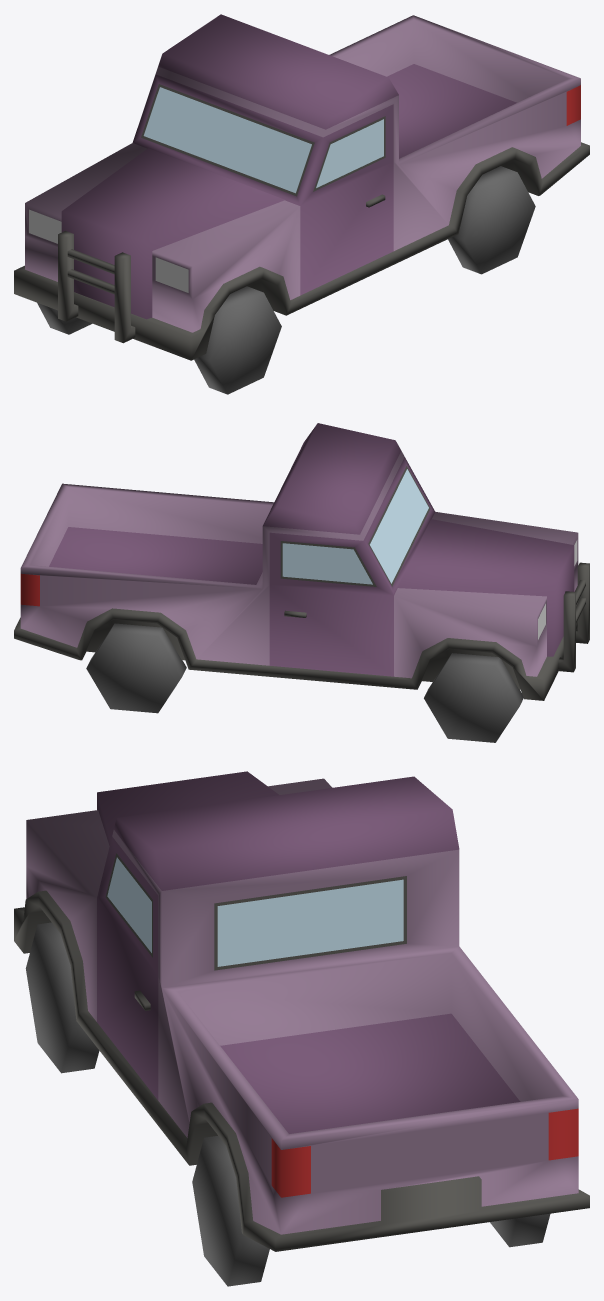
The model's file is boxtruckonly.glb.
3 views of the same model, one above another, from view 1: azimuth 30°, elevation 25°; view 2: azimuth 150°, elevation 25°; view 3: azimuth 270°, elevation 25° (orthographic). The views are drawn at different scales.
Parts seen in each view (by area): view 1: Pickup_2; view 2: Pickup_2; view 3: Pickup_2.
Part boxes in pixels (<box>): Pickup_2: <box>14,14,589,394</box>; Pickup_2: <box>14,423,589,742</box>; Pickup_2: <box>14,771,589,1286</box>.
Size of the model in its own units: 56.25 by 22.85 by 36.14.
Materials: 1 (1 with a texture image).
